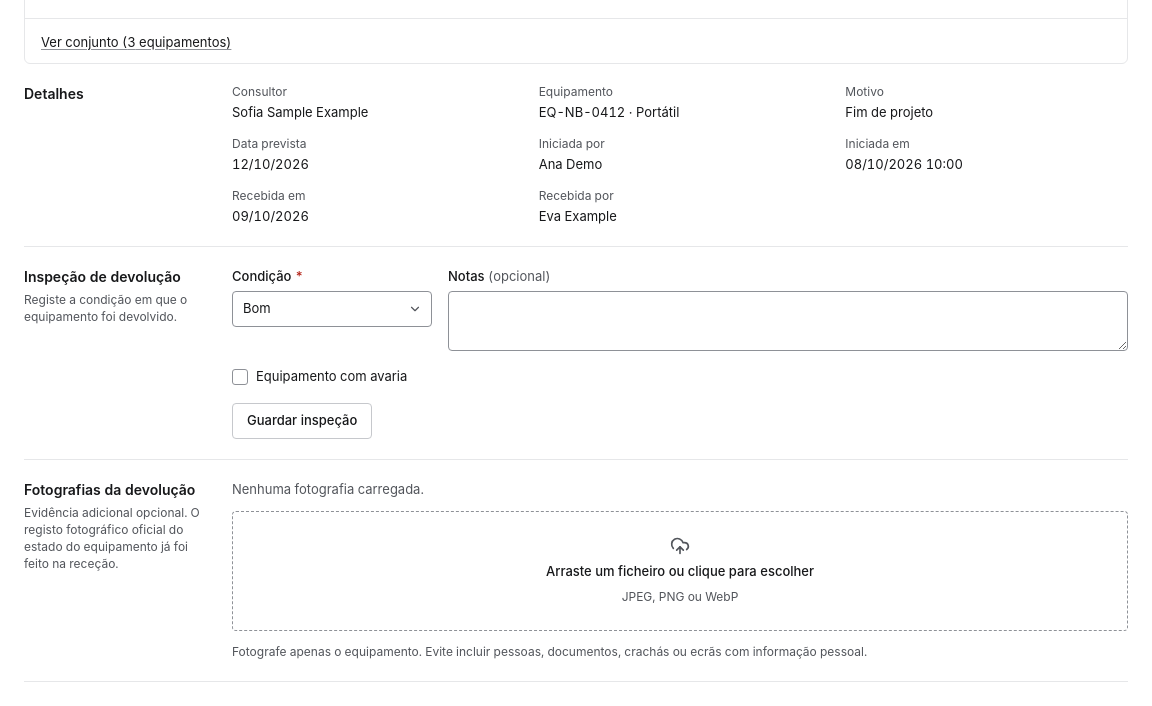
it: ReturnDetailPage — inspection › shows a failed inspection save next to the form
(page scrolled)
Step 1. Click the button "Guardar inspeção" → click(302, 420), box top-left (232, 402), bottom-right (372, 438)
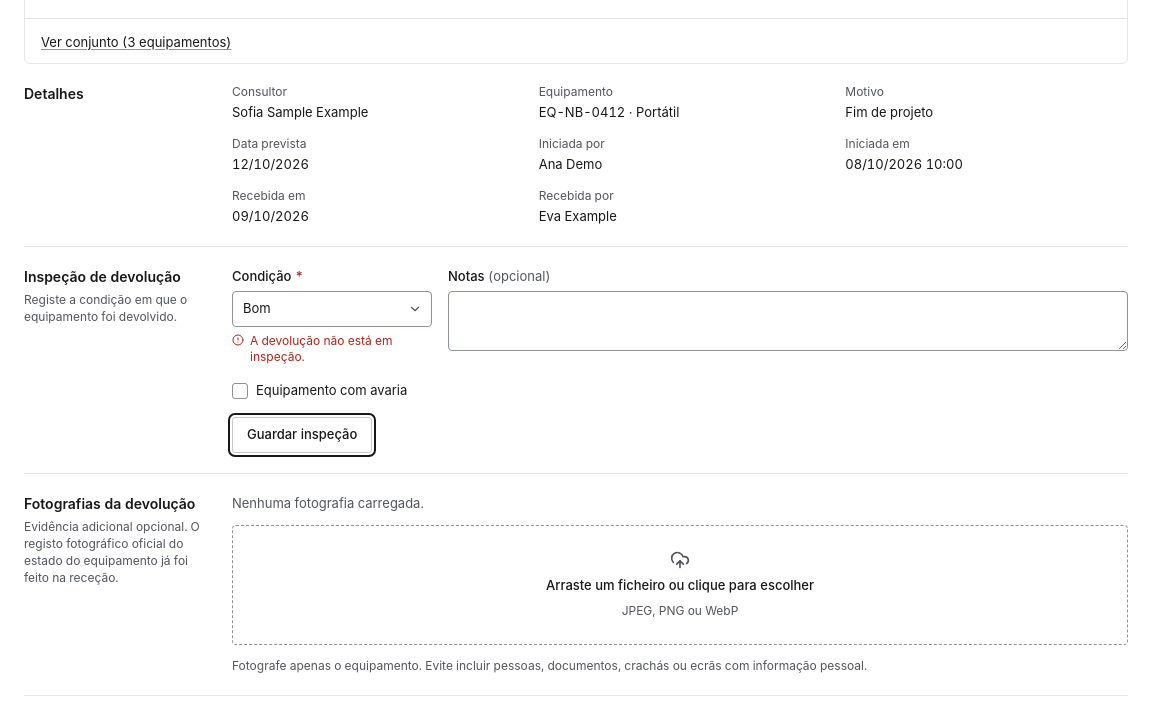
Now the text "A devolução não está em inspeção." is shown, box top-left (250, 333), bottom-right (392, 364)
